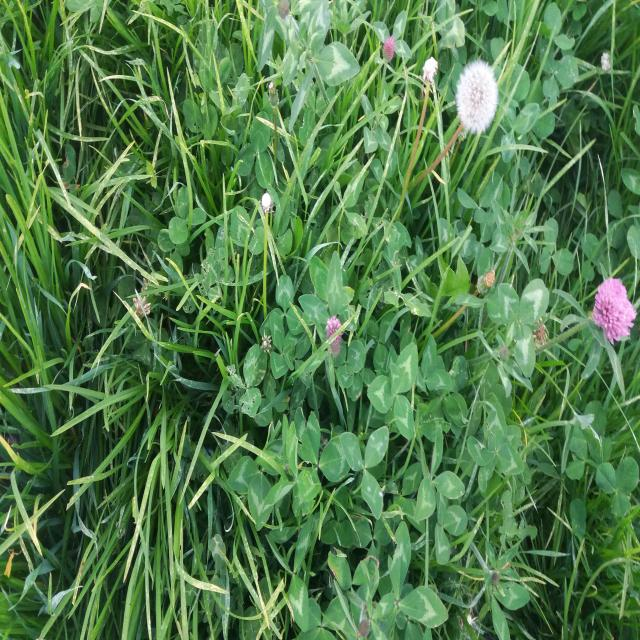Four Leaf Clover: (367, 341, 418, 441)
